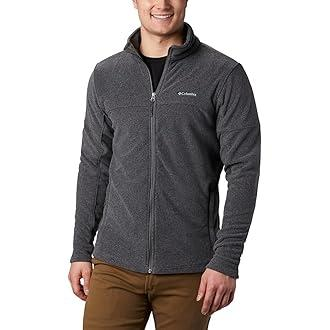jacket: (69, 21, 261, 282)
trousers: (81, 257, 216, 330)
